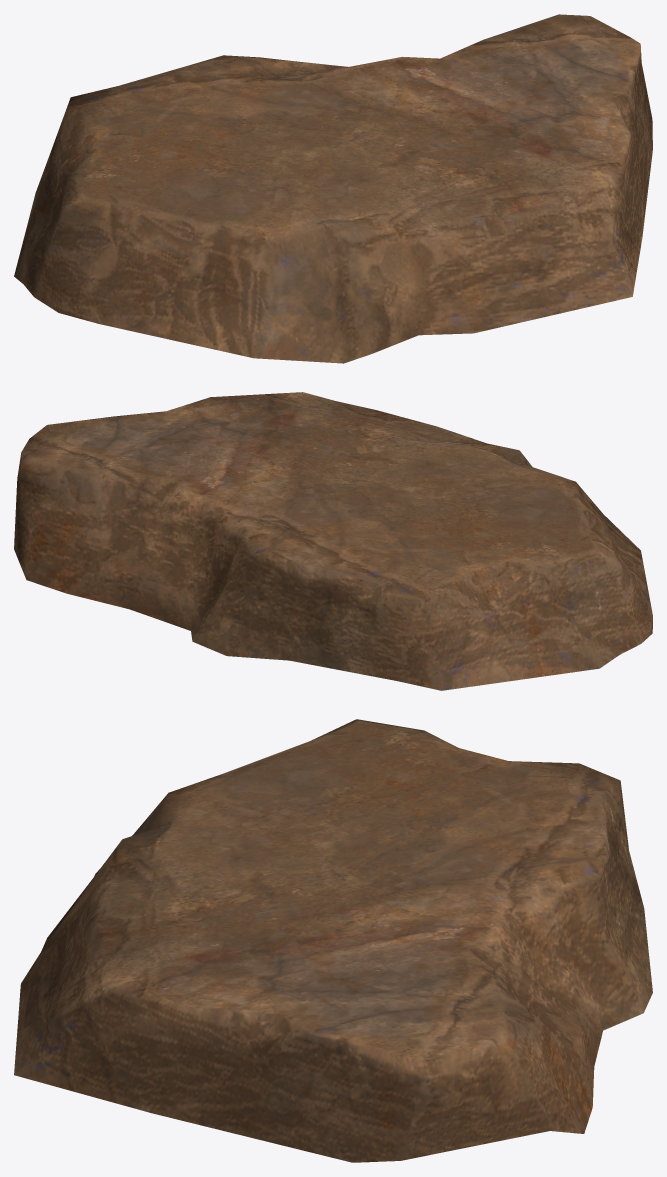
The model's file is Rock_Shales_04.fbx.
The picture shows the model from 3 angles, top to bottom: view 1: azimuth 30°, elevation 25°; view 2: azimuth 150°, elevation 25°; view 3: azimuth 270°, elevation 25°; orthographic projection. The views are drawn at different scales.
Visible parts, largest first — view 1: polySurface231; view 2: polySurface231; view 3: polySurface231.
Part boxes in pixels (x1,y1,x2,y2): polySurface231: (14, 14, 652, 363); polySurface231: (14, 392, 652, 690); polySurface231: (14, 719, 652, 1162).
Bounding box in the file's own units: 121 × 22.47 × 87.43.
